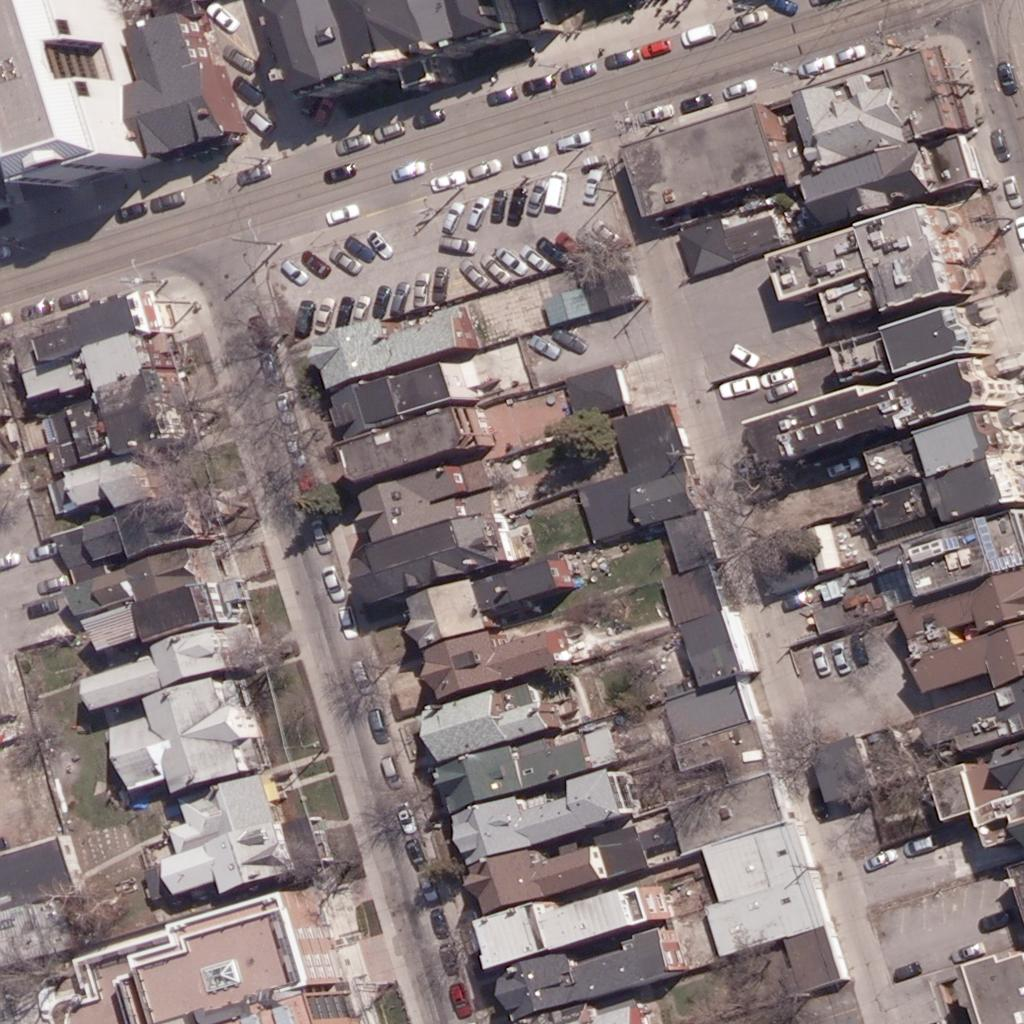car: (734, 0, 768, 34), (677, 16, 711, 50), (637, 30, 671, 64), (827, 37, 861, 71), (216, 39, 250, 73), (605, 40, 639, 74), (795, 47, 829, 81), (559, 52, 593, 86), (987, 56, 1021, 90), (987, 58, 1021, 92), (521, 65, 555, 99), (227, 71, 261, 105), (720, 71, 754, 105), (482, 76, 516, 110), (676, 84, 710, 118), (291, 85, 325, 119), (637, 93, 671, 127), (305, 96, 339, 130), (410, 100, 444, 134), (236, 102, 270, 136), (370, 112, 404, 146), (335, 123, 369, 157), (553, 123, 587, 157), (978, 124, 1012, 158), (508, 138, 542, 172), (462, 152, 496, 186), (323, 154, 357, 188), (389, 155, 423, 189), (234, 156, 268, 190), (428, 162, 462, 196), (536, 168, 570, 202), (572, 172, 606, 206), (516, 183, 550, 217), (146, 185, 180, 219), (480, 188, 514, 222), (494, 191, 528, 225), (114, 194, 148, 228), (320, 196, 354, 230), (458, 196, 492, 230), (434, 200, 468, 234), (586, 213, 620, 247), (358, 222, 392, 256), (572, 224, 606, 258), (437, 226, 471, 260), (553, 226, 587, 260), (338, 230, 372, 264), (529, 231, 563, 265), (514, 241, 548, 275), (490, 242, 524, 276), (326, 244, 360, 278), (295, 246, 329, 280), (270, 250, 304, 284), (475, 251, 509, 285), (456, 257, 490, 291), (420, 265, 454, 299), (400, 273, 434, 307), (50, 281, 84, 315), (362, 282, 396, 316), (378, 282, 412, 316), (18, 291, 52, 325), (340, 291, 374, 325), (303, 295, 337, 329), (304, 295, 338, 329), (326, 295, 360, 329), (285, 298, 319, 332), (242, 317, 276, 351), (550, 321, 584, 355), (521, 330, 555, 364), (726, 338, 760, 372), (249, 347, 283, 381), (760, 357, 794, 391), (723, 368, 757, 402), (762, 373, 796, 407), (264, 392, 298, 426), (275, 431, 309, 465), (825, 448, 859, 482), (286, 464, 320, 498), (303, 516, 337, 550), (25, 533, 59, 567), (35, 565, 69, 599), (314, 565, 348, 599), (779, 582, 813, 616), (23, 587, 57, 621), (328, 604, 362, 638), (840, 636, 874, 670), (820, 642, 854, 676), (803, 644, 837, 678), (343, 658, 377, 692), (361, 706, 395, 740), (371, 750, 405, 784), (371, 751, 405, 785), (386, 798, 420, 832), (901, 828, 935, 862), (396, 835, 430, 869), (860, 841, 894, 875), (406, 865, 440, 899), (982, 899, 1016, 933), (419, 909, 453, 943), (951, 936, 985, 970), (430, 942, 464, 976), (431, 942, 465, 976), (887, 954, 921, 988), (436, 973, 470, 1007), (991, 168, 1024, 202), (201, 0, 235, 32), (763, 0, 797, 21), (0, 544, 21, 578)
